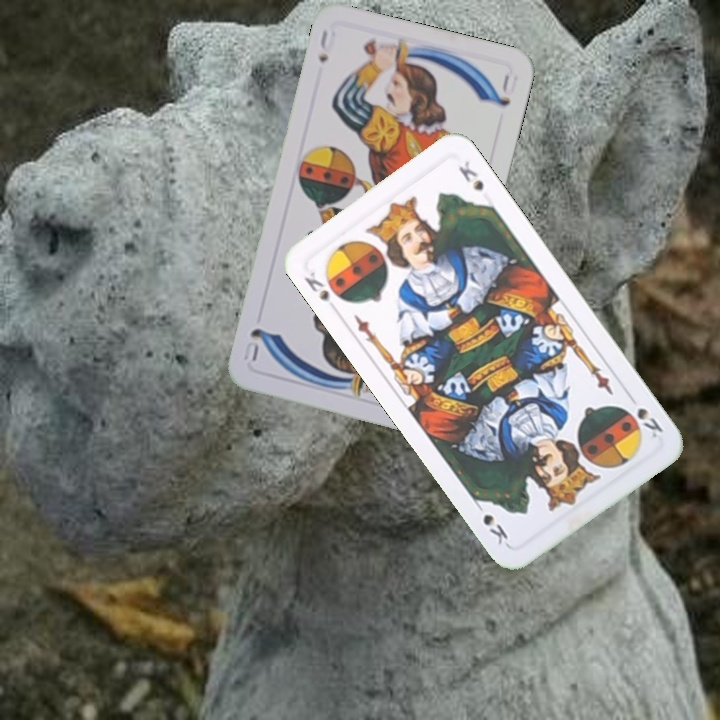SK: (620, 389, 666, 441), (300, 267, 332, 305)
SU: (314, 25, 339, 65)
